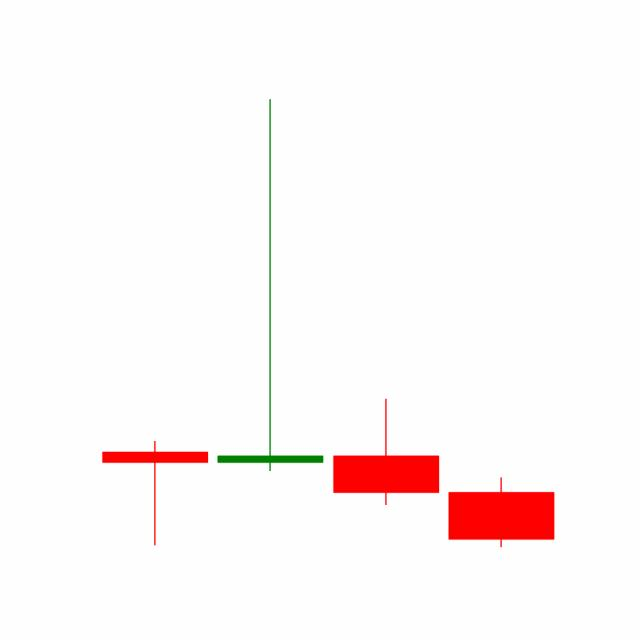Marubozu: (443, 476, 559, 548)
